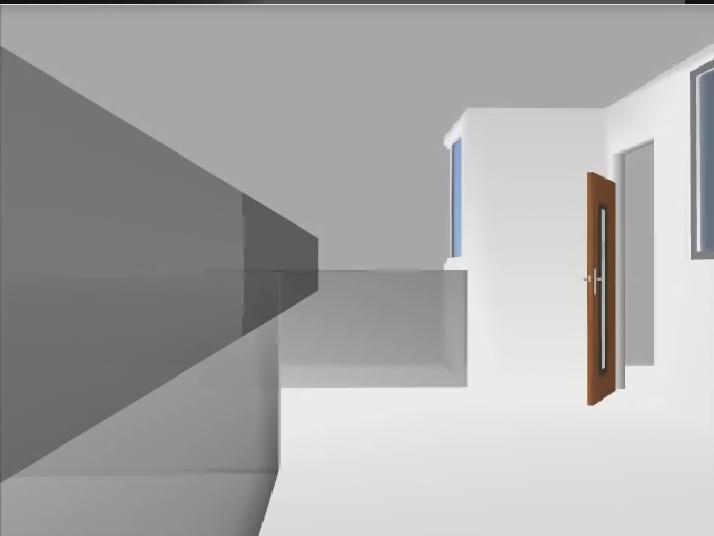door: (587, 172, 616, 406)
